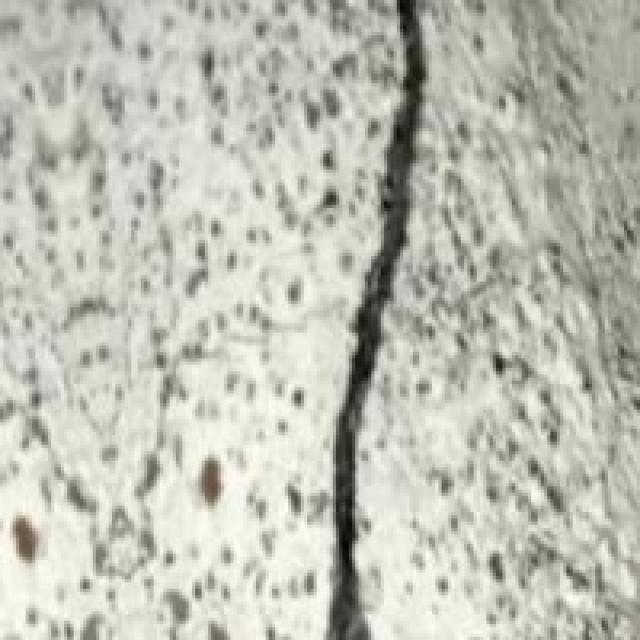crack: (250, 0, 560, 637)
